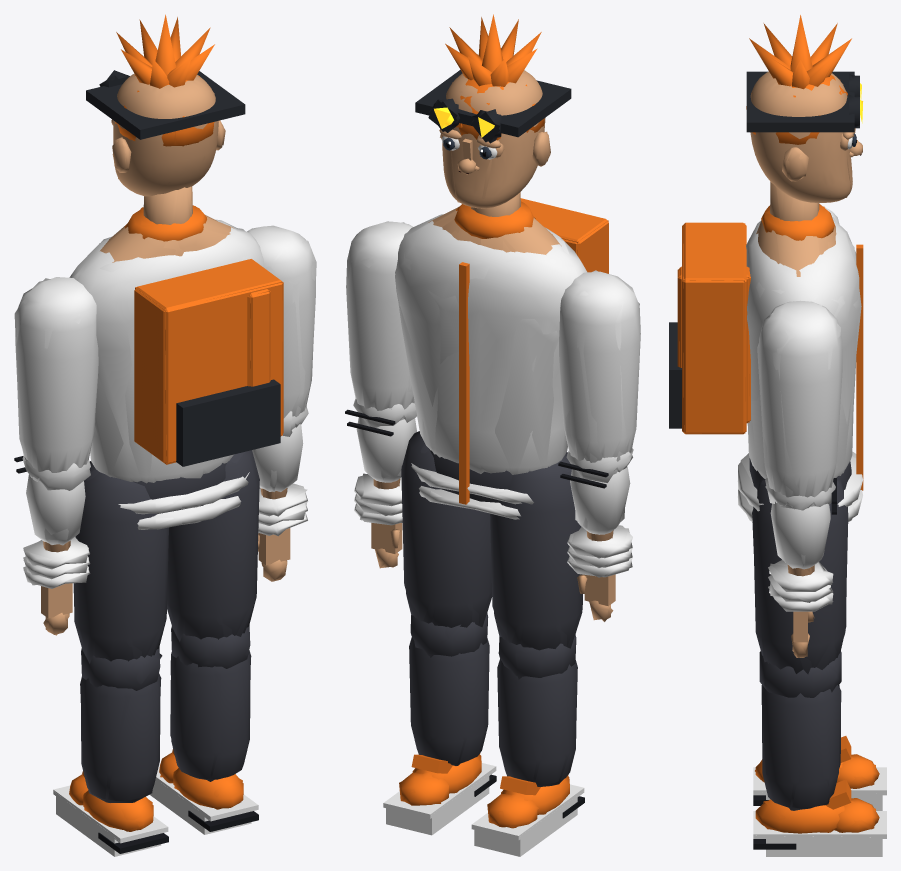
The model's file is char_lab.glb.
3 renders of one model, left to right at view 1: azimuth 30°, elevation 25°; view 2: azimuth 150°, elevation 25°; view 3: azimuth 270°, elevation 25°, orthographic. The views are drawn at different scales.
Visible parts, largest first — view 1: lod_low, torso_d_ff7a1a, arm_L_sleeve, leg_L_pant, torso_jacket, leg_R_pant, head_skull, shin_L_pant, shin_R_pant, arm_R_sleeve, head_d_23262c, forearm_L_sleeve (+21 smaller); view 2: lod_low, torso_jacket, leg_L_pant, arm_L_sleeve, leg_R_pant, arm_R_sleeve, head_skull, shin_L_pant, shin_R_pant, torso_d_ff7a1a, shin_L_d_f4f4f4, head_d_23262c (+20 smaller); view 3: lod_low, torso_d_ff7a1a, arm_R_sleeve, torso_jacket, leg_R_pant, head_skull, shin_R_pant, shin_R_d_ff7a1a, forearm_R_sleeve, torso_d_top2, shin_R_d_pants, head_d_23262c (+14 smaller).
Part boxes in pixels (left/top/right/bottom): lod_low: left=14, top=15, right=316, bottom=850; torso_d_ff7a1a: left=134, top=259, right=283, bottom=464; arm_L_sleeve: left=15, top=277, right=98, bottom=481; leg_L_pant: left=73, top=461, right=168, bottom=661; torso_jacket: left=69, top=219, right=263, bottom=482; leg_R_pant: left=167, top=450, right=259, bottom=639; head_skull: left=113, top=73, right=218, bottom=196; shin_L_pant: left=80, top=674, right=160, bottom=801; shin_R_pant: left=170, top=653, right=250, bottom=779; arm_R_sleeve: left=247, top=225, right=315, bottom=427; head_d_23262c: left=86, top=70, right=245, bottom=139; forearm_L_sleeve: left=26, top=474, right=85, bottom=545; lod_low: left=347, top=14, right=639, bottom=856; torso_jacket: left=395, top=214, right=586, bottom=474; leg_L_pant: left=490, top=452, right=582, bottom=650; arm_L_sleeve: left=559, top=271, right=640, bottom=472; leg_R_pant: left=401, top=431, right=491, bottom=627; arm_R_sleeve: left=346, top=221, right=414, bottom=420; head_skull: left=442, top=70, right=545, bottom=208; shin_L_pant: left=499, top=659, right=576, bottom=785; shin_R_pant: left=411, top=640, right=488, bottom=763; torso_d_ff7a1a: left=520, top=198, right=608, bottom=273; shin_L_d_f4f4f4: left=471, top=784, right=584, bottom=856; head_d_23262c: left=415, top=70, right=570, bottom=142; lod_low: left=669, top=18, right=882, bottom=856; torso_d_ff7a1a: left=682, top=222, right=746, bottom=434; arm_R_sleeve: left=759, top=300, right=842, bottom=509; torso_jacket: left=746, top=220, right=859, bottom=478; leg_R_pant: left=753, top=478, right=848, bottom=673; head_skull: left=750, top=71, right=852, bottom=202; shin_R_pant: left=761, top=685, right=839, bottom=809; shin_R_d_ff7a1a: left=755, top=779, right=879, bottom=833; forearm_R_sleeve: left=770, top=501, right=830, bottom=569; torso_d_top2: left=677, top=244, right=863, bottom=490; shin_R_d_pants: left=759, top=651, right=841, bottom=697; head_d_23262c: left=746, top=71, right=859, bottom=128.
Size of the model in its own units: 0.77 by 2.07 by 0.505.
